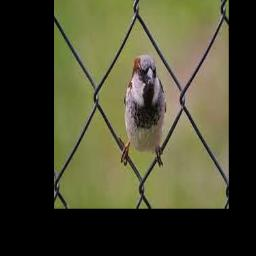Sparrow: (124, 54, 166, 155)
